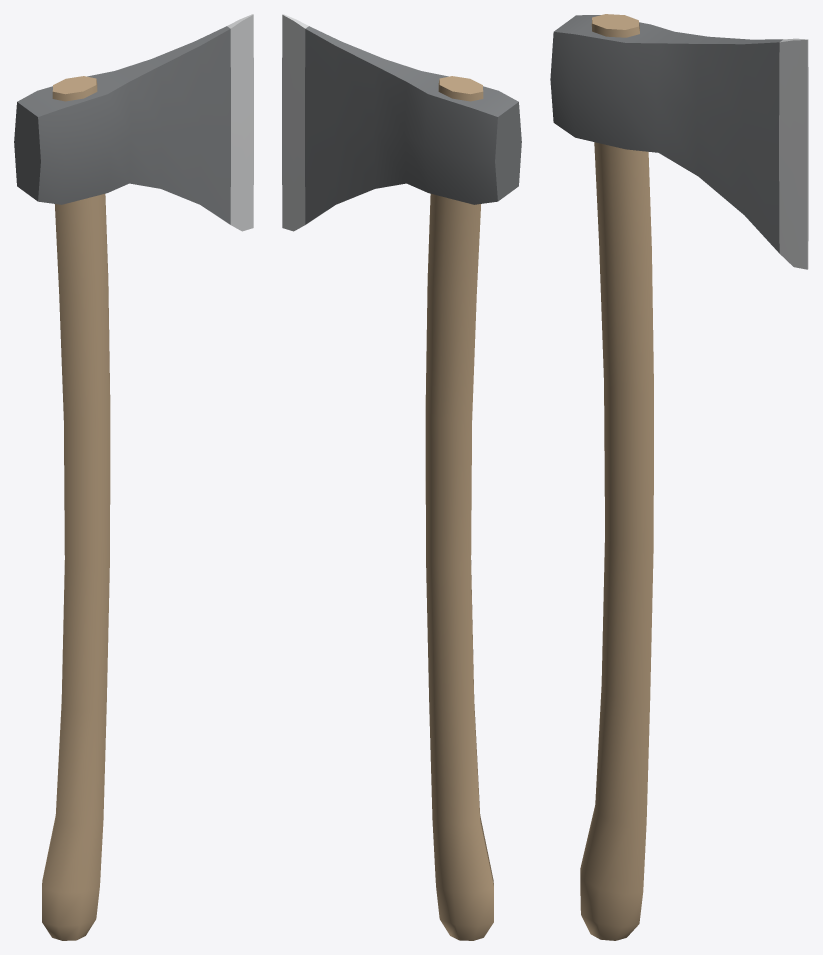
File: Item_Axe.fbx
3 renders of one model, left to right at view 1: azimuth 30°, elevation 25°; view 2: azimuth 150°, elevation 25°; view 3: azimuth 330°, elevation 25°, orthographic. The views are drawn at different scales.
Visible parts, largest first — view 1: Item_Axe; view 2: Item_Axe; view 3: Item_Axe.
Boxes of the visible parts, box(x1,y1,x2,y2) form: Item_Axe: box(14, 14, 253, 940); Item_Axe: box(282, 14, 521, 940); Item_Axe: box(550, 14, 808, 940).
Bounding box in the file's own units: 0.165 × 0.611 × 0.04.
